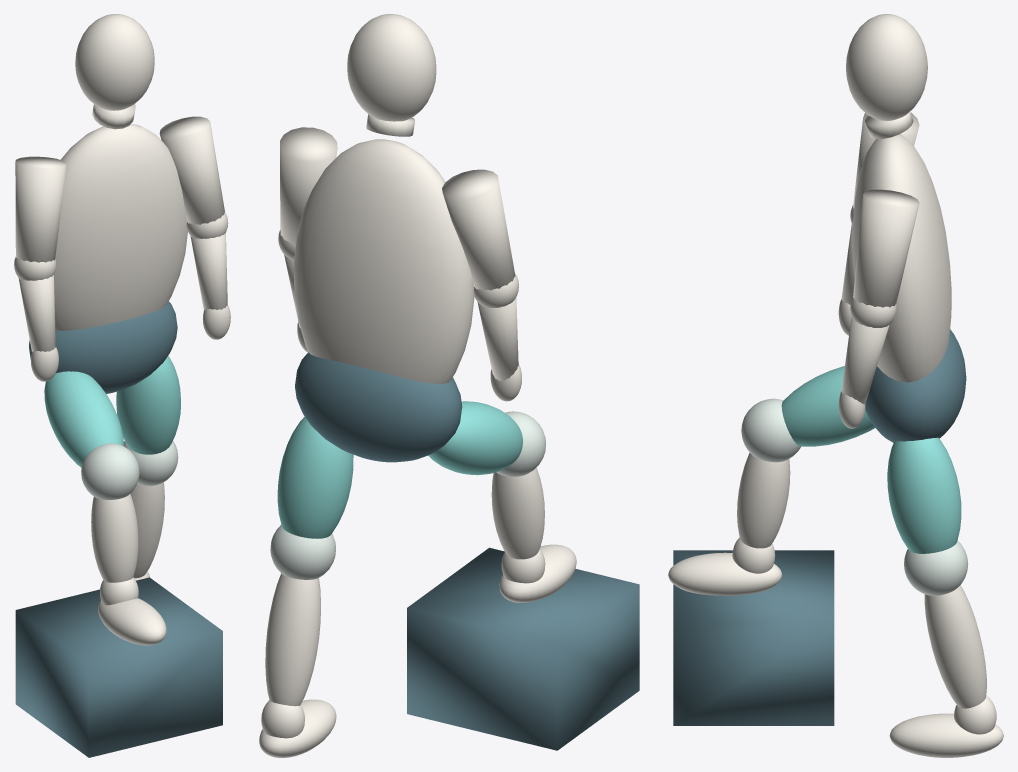
Rendered from movement-step.glb.
3 renders of one model, left to right at view 1: azimuth 30°, elevation 25°; view 2: azimuth 150°, elevation 25°; view 3: azimuth 270°, elevation 25°, orthographic. The views are drawn at different scales.
Parts seen in each view (by area): view 1: static #eee5d3, static #203c48, static #49bdb4, static #c7ddd2; view 2: static #eee5d3, static #203c48, static #49bdb4, static #c7ddd2; view 3: static #eee5d3, static #203c48, static #49bdb4, static #c7ddd2.
Part boxes in pixels (bbox=[...]): static #eee5d3: bbox=[14, 14, 230, 645]; static #203c48: bbox=[15, 301, 222, 757]; static #49bdb4: bbox=[44, 356, 180, 467]; static #c7ddd2: bbox=[81, 441, 178, 499]; static #eee5d3: bbox=[259, 14, 576, 757]; static #203c48: bbox=[295, 352, 639, 750]; static #49bdb4: bbox=[277, 401, 522, 538]; static #c7ddd2: bbox=[270, 411, 545, 579]; static #eee5d3: bbox=[668, 14, 1003, 757]; static #203c48: bbox=[673, 329, 966, 725]; static #49bdb4: bbox=[781, 366, 961, 553]; static #c7ddd2: bbox=[741, 398, 968, 595].
Size of the model in its own units: 0.1615 by 0.4365 by 0.188.
